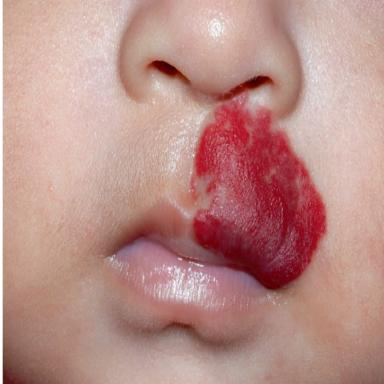Hemangiome: (192, 100, 325, 289)
